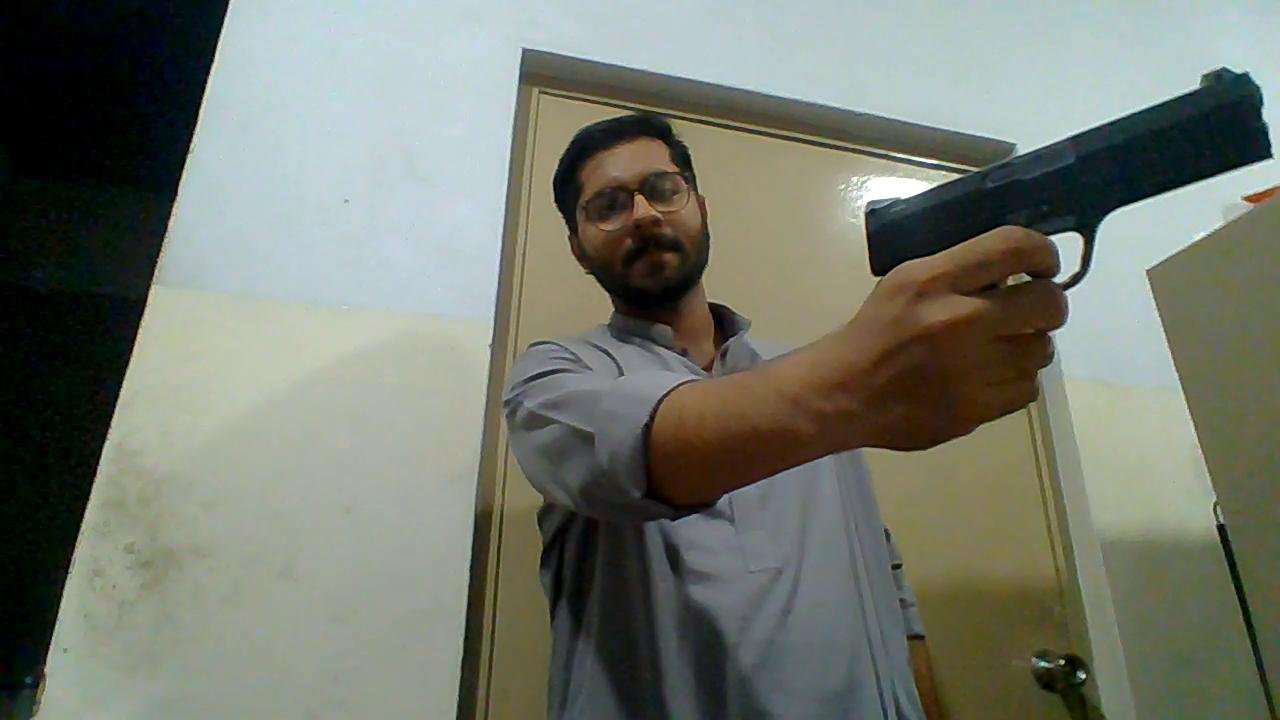criminal: (499, 64, 1277, 720)
weapon: (862, 66, 1276, 297)
